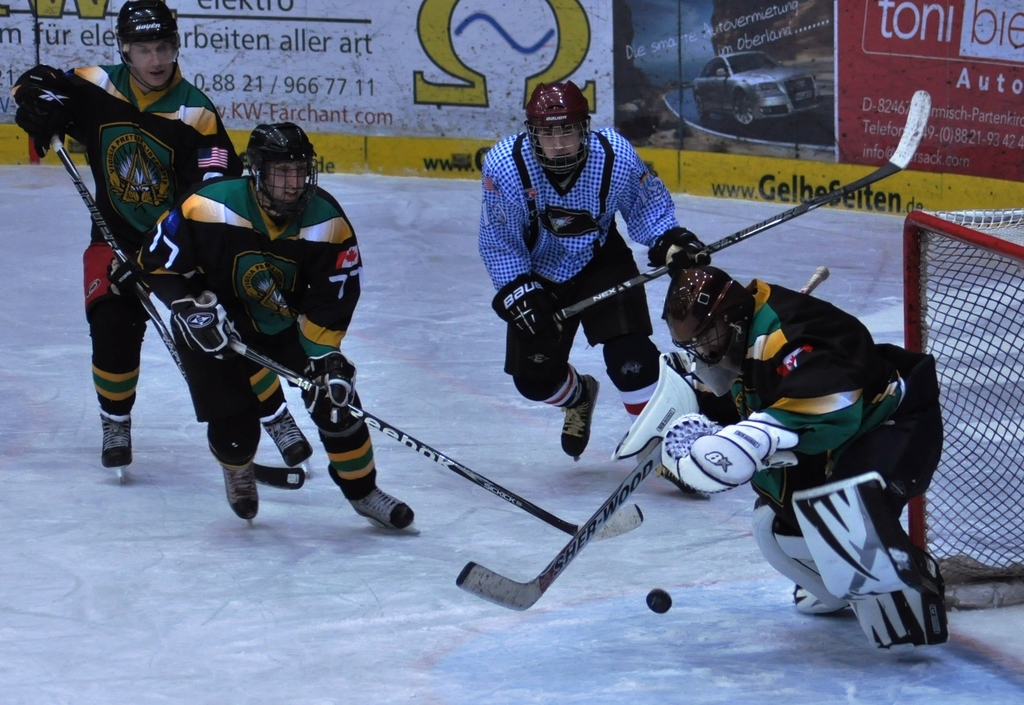Person: (611, 262, 947, 654), (129, 121, 415, 530), (8, 0, 246, 474), (474, 77, 714, 459)
